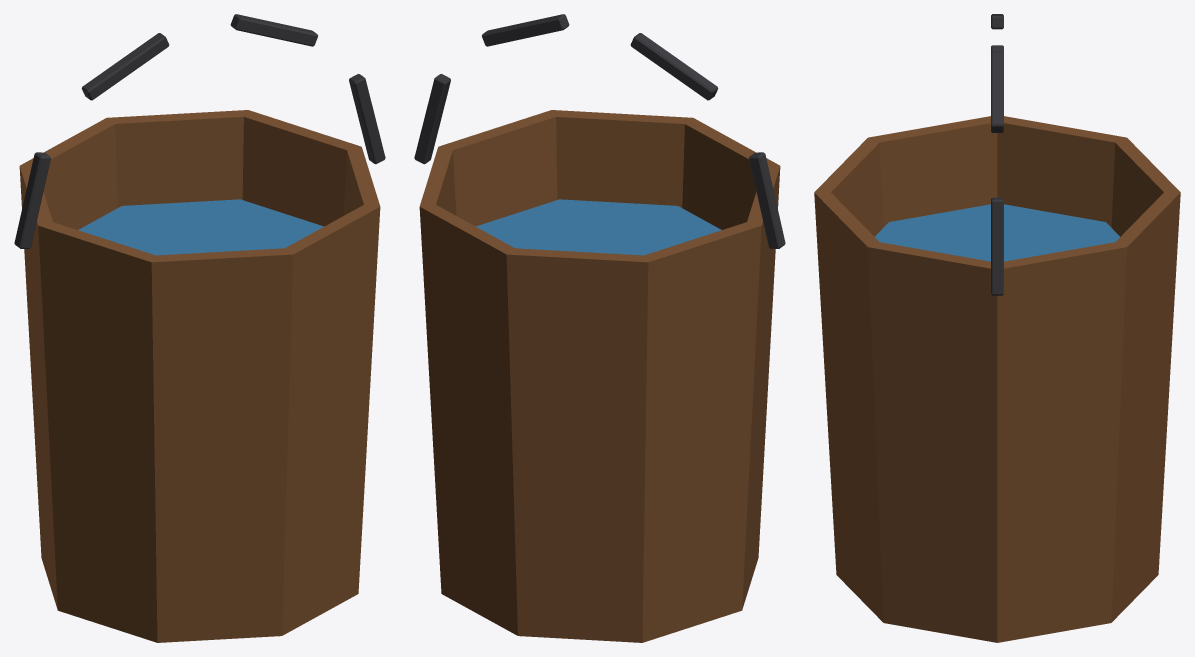
File: Prop_WaterBucket_LOD1.glb
3 views of the same model, side by side, from view 1: azimuth 30°, elevation 25°; view 2: azimuth 150°, elevation 25°; view 3: azimuth 270°, elevation 25° (orthographic).
Visible parts, largest first — view 1: Prop_WaterBucket, Prop_WaterBucket_Water; view 2: Prop_WaterBucket, Prop_WaterBucket_Water; view 3: Prop_WaterBucket, Prop_WaterBucket_Water.
Boxes of the visible parts, left/top/right/bottom form: Prop_WaterBucket: left=14, top=14, right=385, bottom=642; Prop_WaterBucket_Water: left=78, top=199, right=323, bottom=255; Prop_WaterBucket: left=414, top=14, right=785, bottom=642; Prop_WaterBucket_Water: left=476, top=199, right=721, bottom=255; Prop_WaterBucket: left=814, top=14, right=1180, bottom=642; Prop_WaterBucket_Water: left=875, top=204, right=1119, bottom=261.
Size of the model in its own units: 0.3735 by 0.5368 by 0.33.
